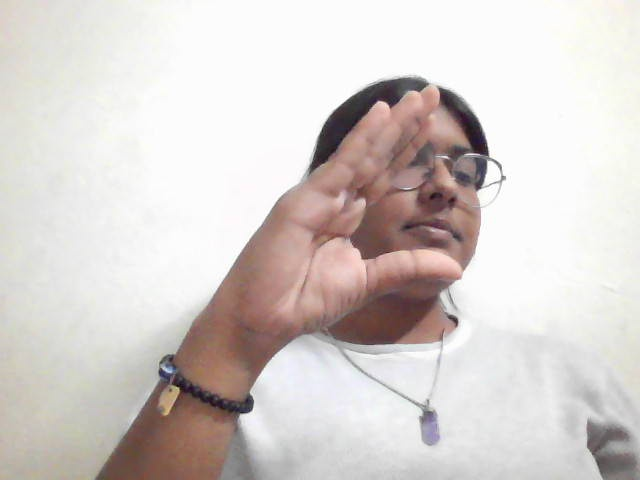no: (203, 79, 495, 357)
